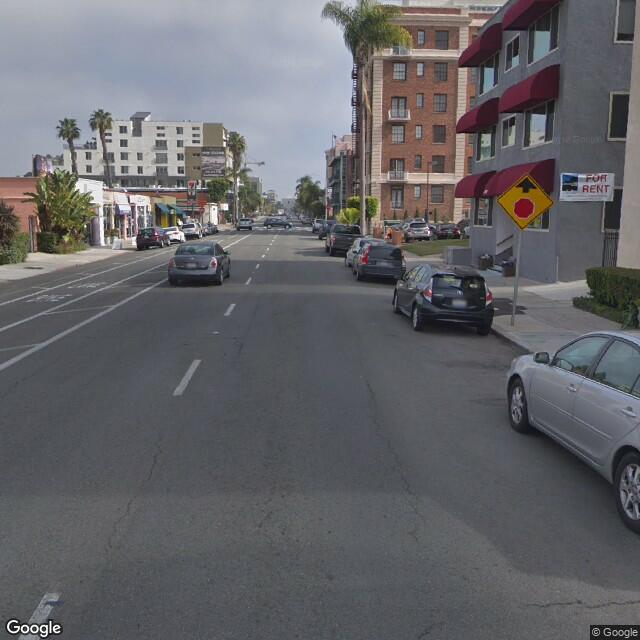road line: (176, 294, 238, 412)
window: (605, 86, 629, 148), (612, 1, 639, 52), (525, 108, 551, 151), (525, 16, 555, 53), (431, 125, 452, 149), (393, 125, 405, 145)
